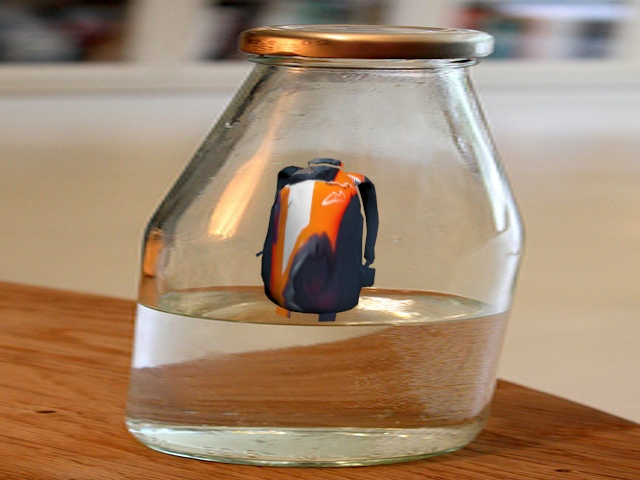back_pack: (249, 145, 384, 328)
